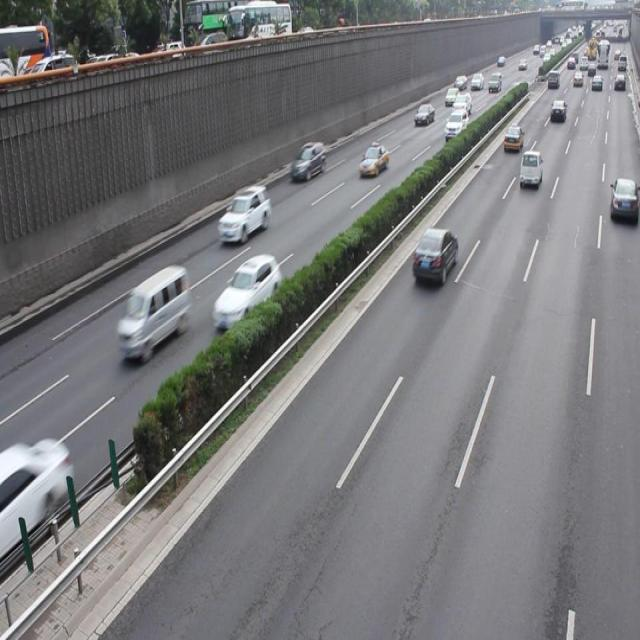car: (1, 436, 70, 555), (212, 253, 282, 332), (217, 184, 270, 244), (411, 225, 456, 285), (289, 139, 326, 180), (608, 178, 640, 224), (357, 142, 388, 177)
truck: (116, 264, 188, 363), (518, 150, 541, 188)
